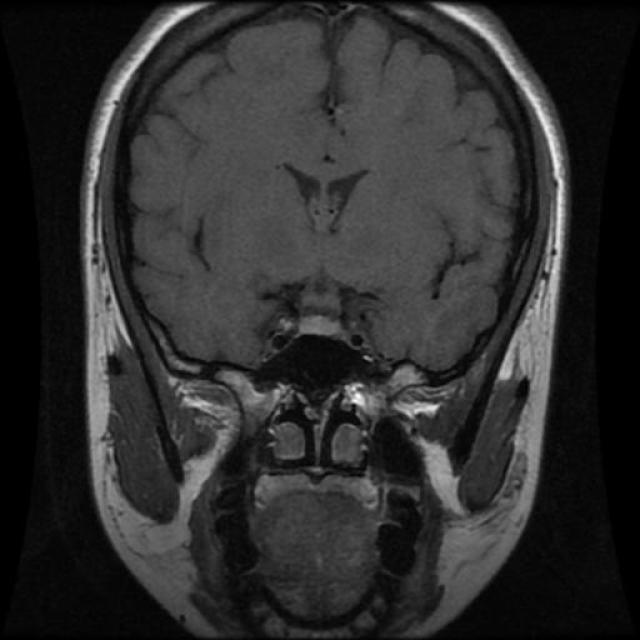pituitary: (267, 280, 365, 352)
